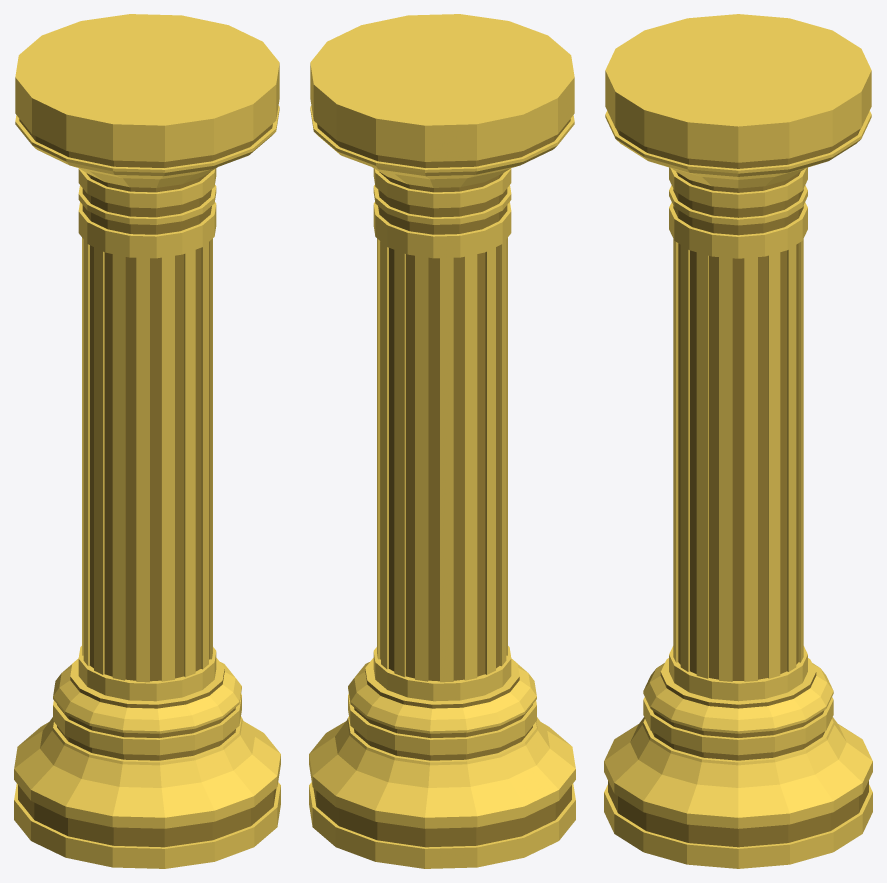
Rendered from collum.fbx.
3 views of the same model, side by side, from view 1: azimuth 30°, elevation 25°; view 2: azimuth 150°, elevation 25°; view 3: azimuth 270°, elevation 25° (orthographic).
Visible parts, largest first — view 1: Cylinder; view 2: Cylinder; view 3: Cylinder.
Part boxes in pixels (box(x1,y1,x2,y2)): Cylinder: box(14, 14, 280, 868); Cylinder: box(309, 14, 575, 868); Cylinder: box(604, 14, 872, 868).
Size of the model in its own units: 117 by 357 by 117.
